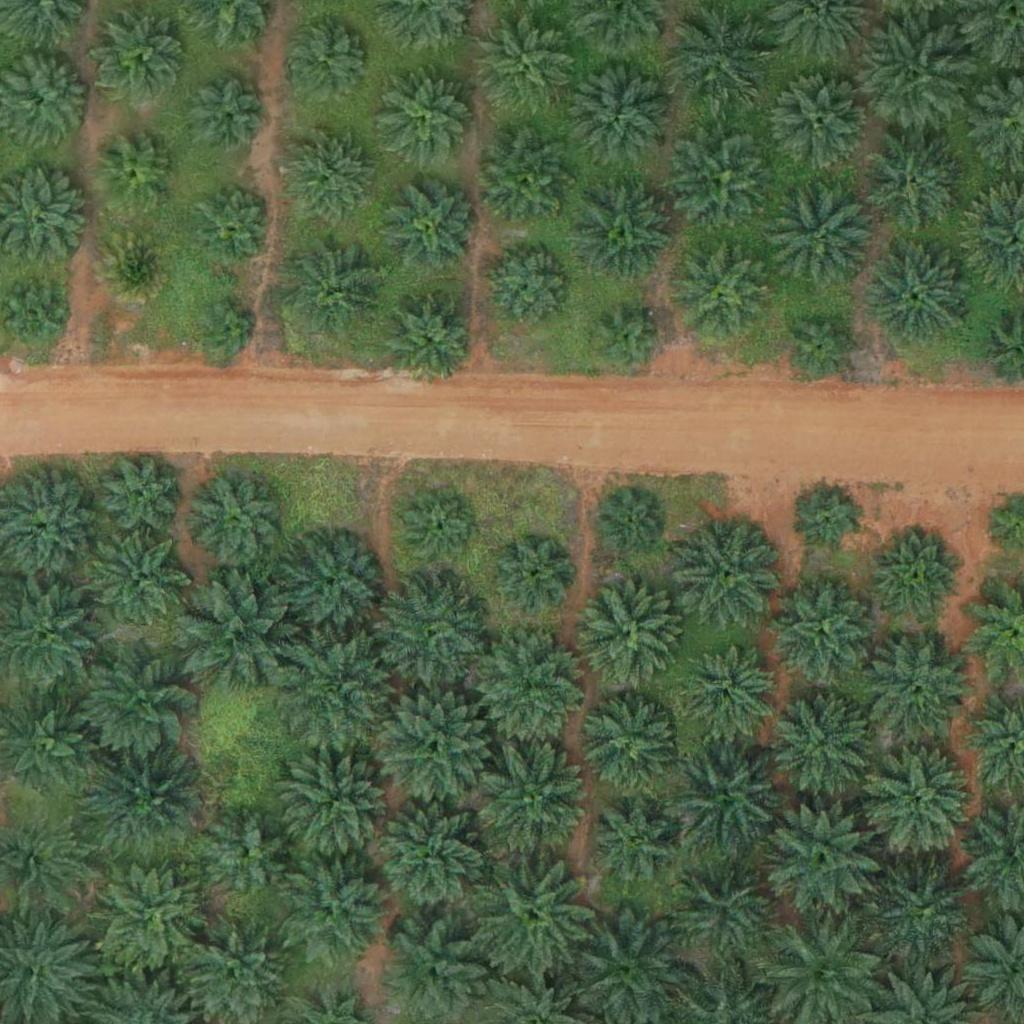Kelapa_Sawit: (76, 639, 201, 765), (173, 572, 298, 698), (276, 631, 401, 757), (370, 796, 495, 922), (471, 738, 596, 864), (470, 853, 595, 979), (662, 729, 787, 855), (661, 848, 786, 974), (762, 798, 887, 924), (858, 741, 983, 866), (282, 749, 395, 863), (280, 854, 393, 967), (474, 631, 587, 744), (377, 687, 489, 801), (856, 21, 968, 134), (89, 744, 201, 857), (94, 863, 206, 976), (372, 572, 484, 685), (864, 137, 964, 238), (868, 244, 968, 345), (771, 73, 871, 174), (771, 182, 871, 283), (670, 5, 770, 106), (672, 131, 772, 232), (672, 243, 772, 344), (572, 63, 672, 164), (573, 185, 673, 286), (479, 12, 579, 113), (478, 129, 578, 230), (376, 70, 476, 171), (579, 581, 679, 682), (578, 696, 678, 797), (681, 522, 781, 623), (675, 643, 775, 744), (772, 579, 872, 680), (772, 691, 872, 792), (867, 636, 967, 737), (875, 863, 975, 964), (379, 287, 479, 387), (285, 237, 385, 337), (90, 529, 190, 629), (280, 535, 380, 635), (585, 792, 685, 892), (484, 243, 572, 331), (98, 14, 186, 102), (204, 810, 292, 898), (389, 183, 476, 271), (283, 14, 370, 102), (285, 126, 372, 214), (96, 450, 183, 538), (190, 476, 277, 564), (878, 532, 965, 620), (98, 139, 173, 215), (188, 78, 263, 154), (401, 493, 476, 569), (590, 302, 665, 378), (195, 187, 270, 263), (99, 228, 174, 304), (498, 537, 573, 612), (786, 310, 861, 385), (599, 491, 662, 554), (197, 300, 259, 363), (799, 489, 861, 552)
